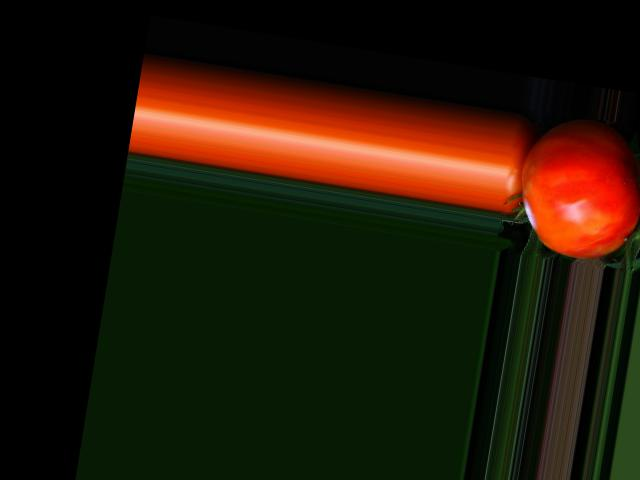tomato: (511, 110, 640, 266)
